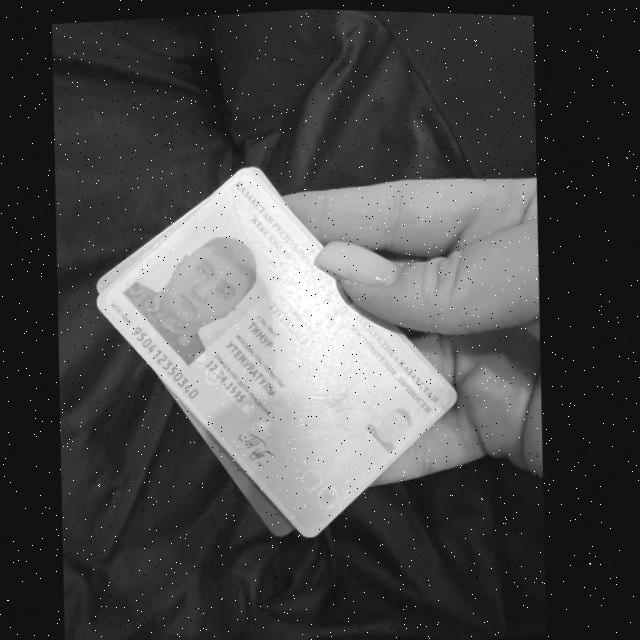card: (98, 169, 455, 536)
